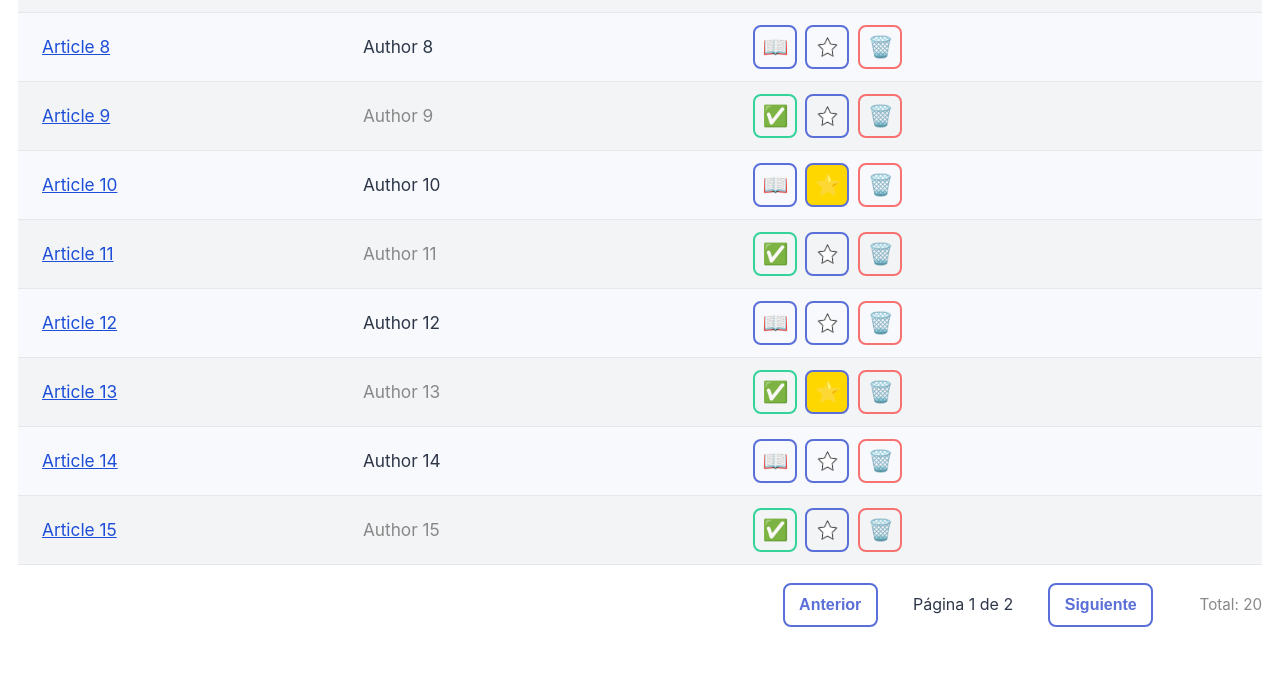
Test: ArticleTable - Paginación › navega a la siguiente página correctamente
This screenshot has width=1280, height=691.
(page scrolled)
Click the button "Siguiente": (1101, 605) [1048,583,1153,627]
(page scrolled)
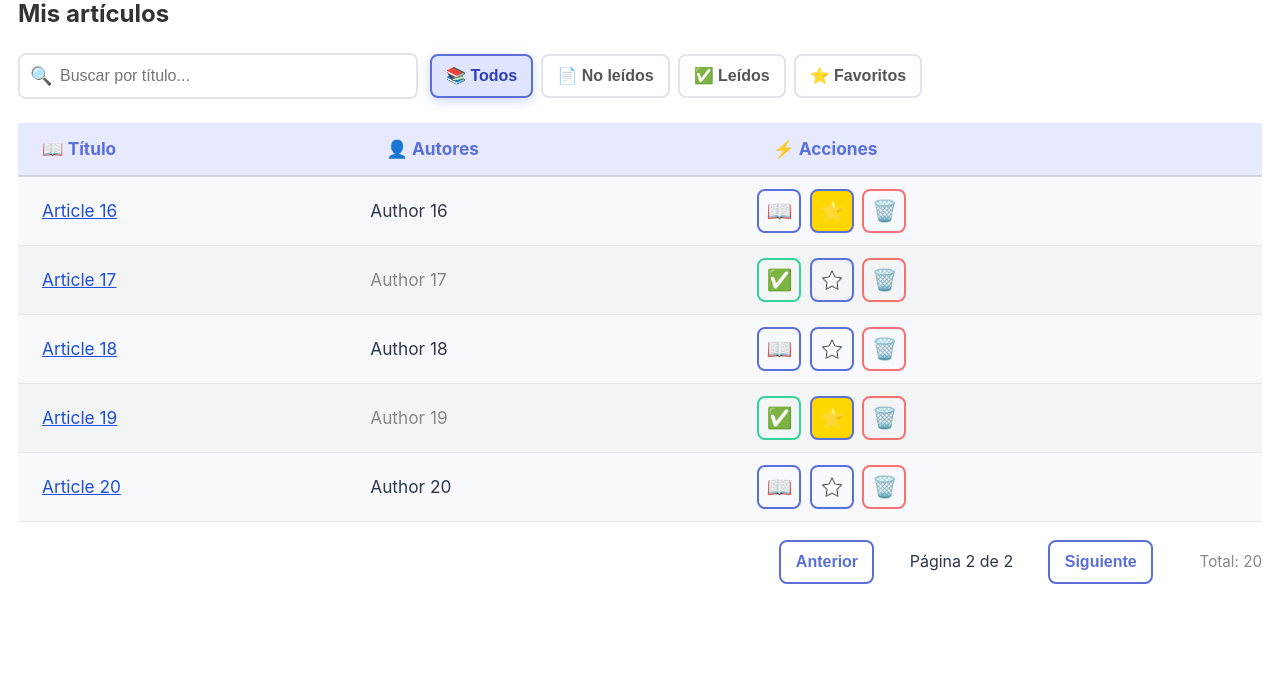
Now the link titled "Article 16" is shown, box [42,200,117,221]
